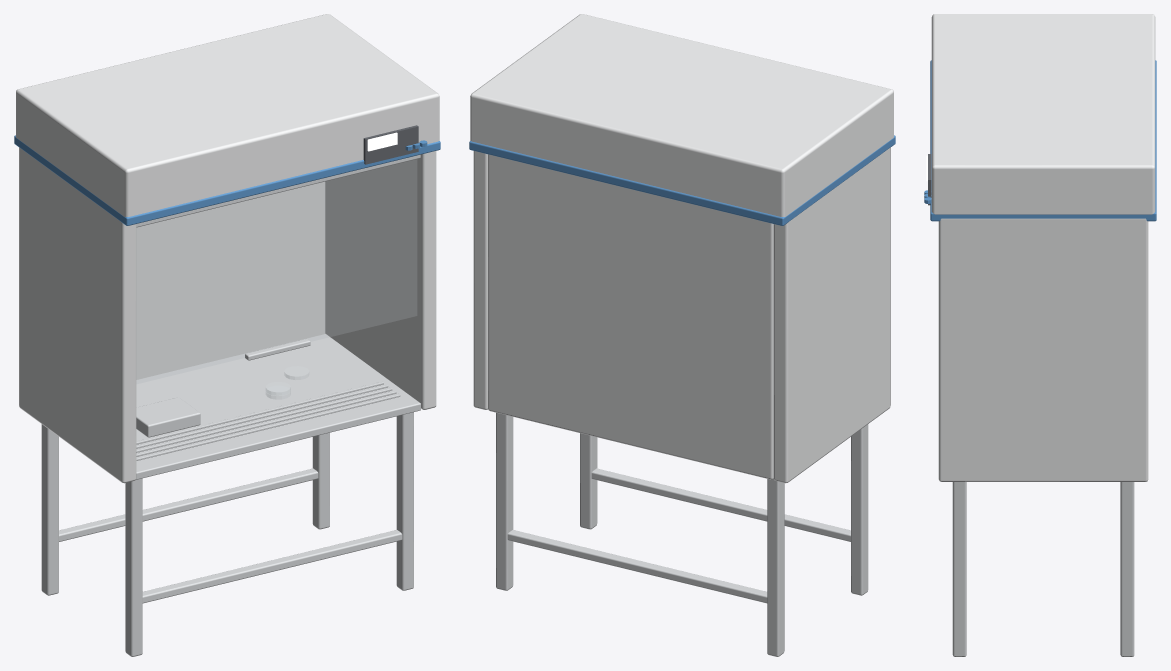
The model's file is biosafety-cabinet.glb.
3 renders of one model, left to right at view 1: azimuth 30°, elevation 25°; view 2: azimuth 150°, elevation 25°; view 3: azimuth 270°, elevation 25°, orthographic.
Visible parts, largest first — view 1: biosafety-cabinet; view 2: biosafety-cabinet; view 3: biosafety-cabinet.
Boxes of the visible parts, x1,y1,x2,y2 form: biosafety-cabinet: [14, 14, 440, 656]; biosafety-cabinet: [469, 14, 895, 656]; biosafety-cabinet: [924, 14, 1156, 656].
Size of the model in its own units: 1.3 by 1.97 by 0.832.
